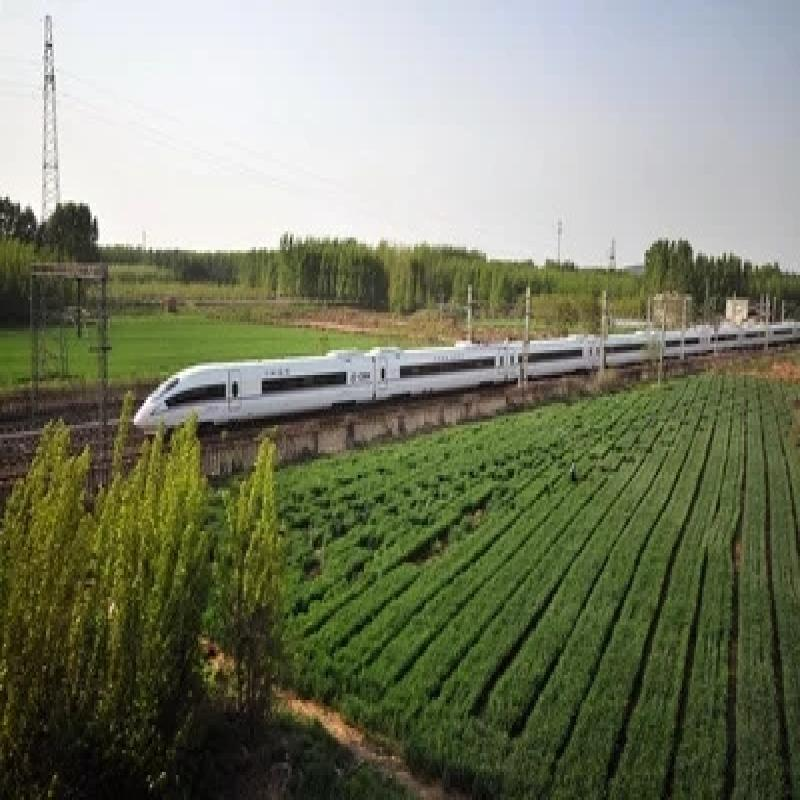train: (127, 323, 800, 442)
